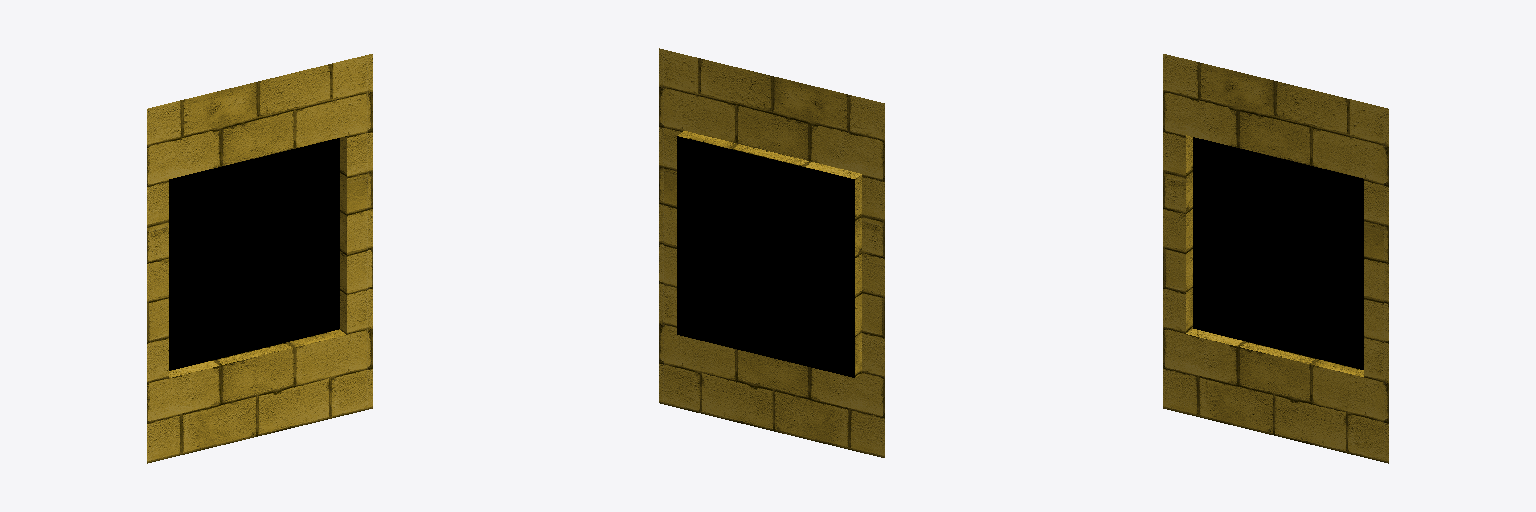
3 renders of one model, left to right at view 1: azimuth 30°, elevation 25°; view 2: azimuth 150°, elevation 25°; view 3: azimuth 330°, elevation 25°, orthographic.
Visible parts, largest first — view 1: brick_wall_x1_man_and_dog_relief; view 2: brick_wall_x1_man_and_dog_relief; view 3: brick_wall_x1_man_and_dog_relief.
Boxes of the visible parts, <box> form: brick_wall_x1_man_and_dog_relief: <box>147,54,372,463</box>; brick_wall_x1_man_and_dog_relief: <box>659,48,884,457</box>; brick_wall_x1_man_and_dog_relief: <box>1163,54,1388,463</box>.
Size of the model in its own units: 200 by 300 by 11.14.
2 materials, 1 textured.